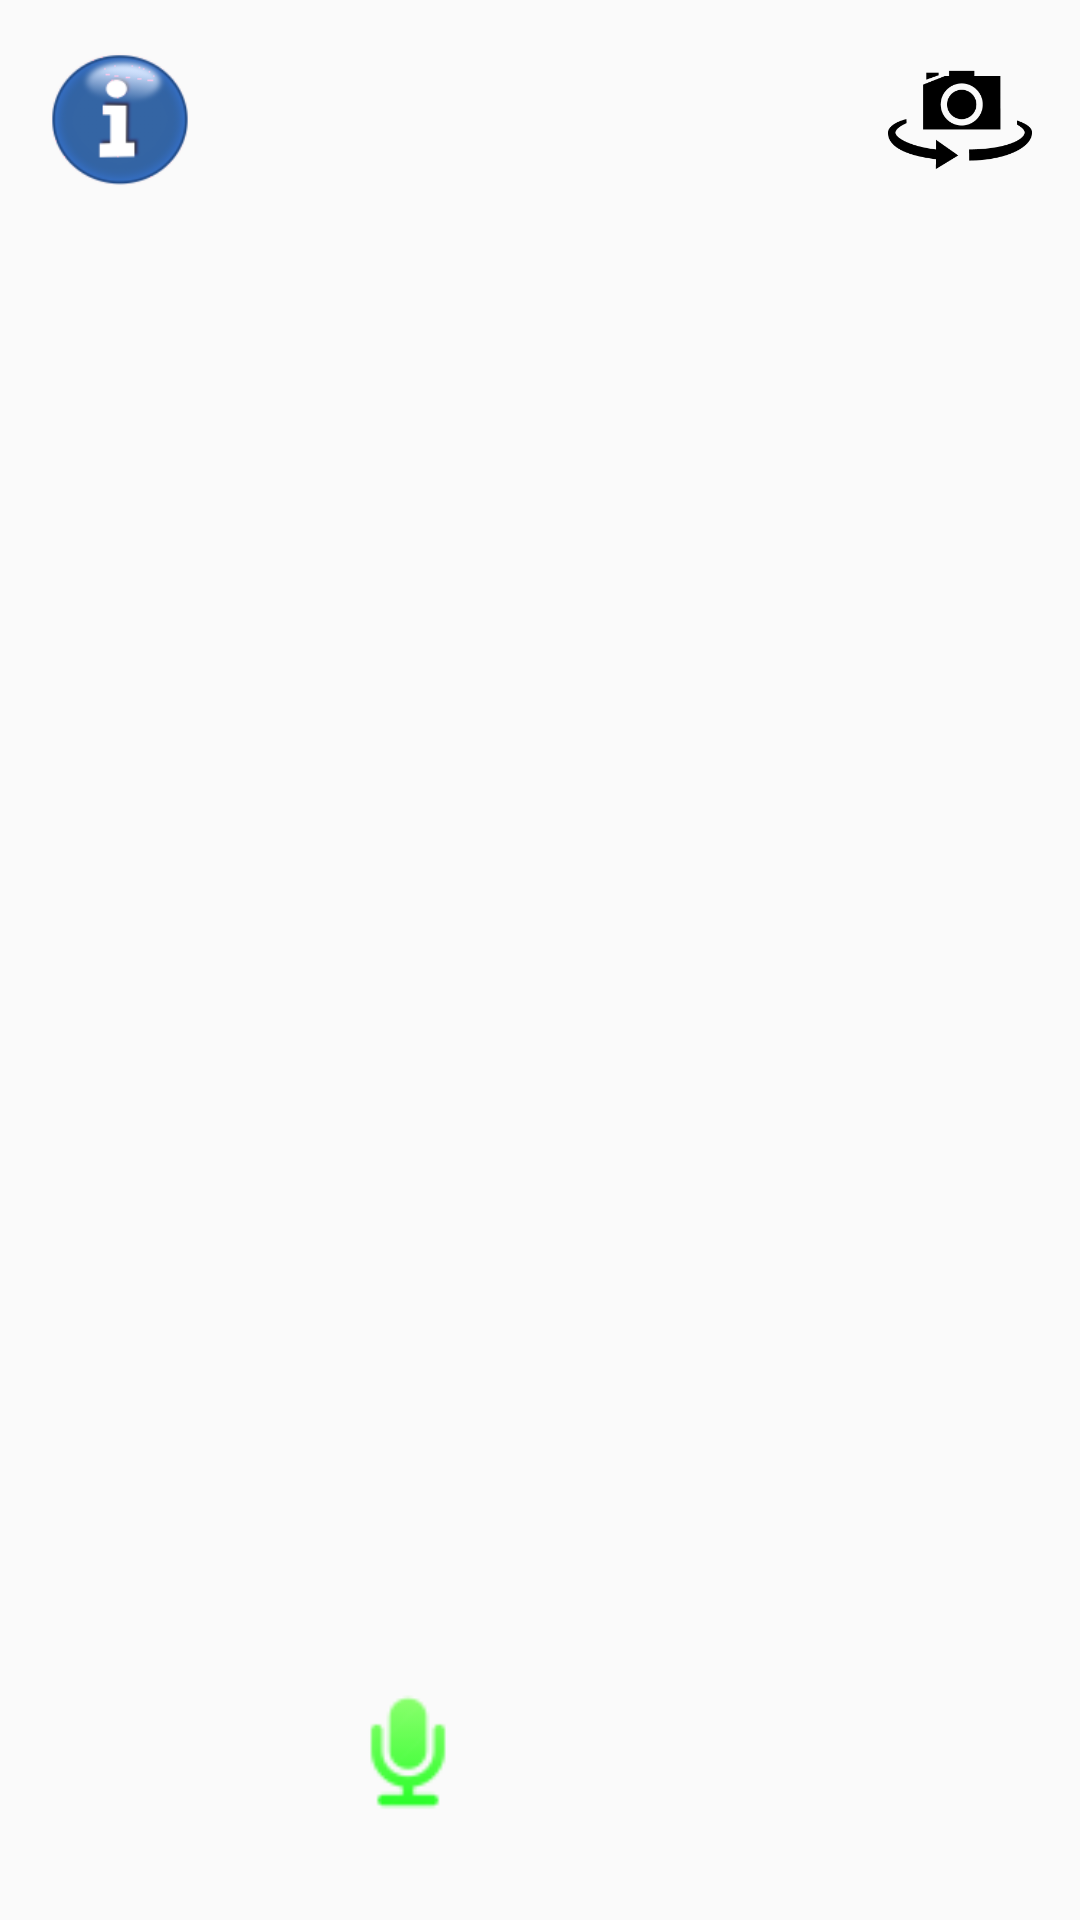

Icon bounding boxes for this 1080×1920 phone screenshot, format (x1, y1, x2, y2):
Call info: (52, 55, 188, 185)
mic on: (370, 1697, 446, 1808)
Switch front/back camera: (888, 70, 1032, 169)
